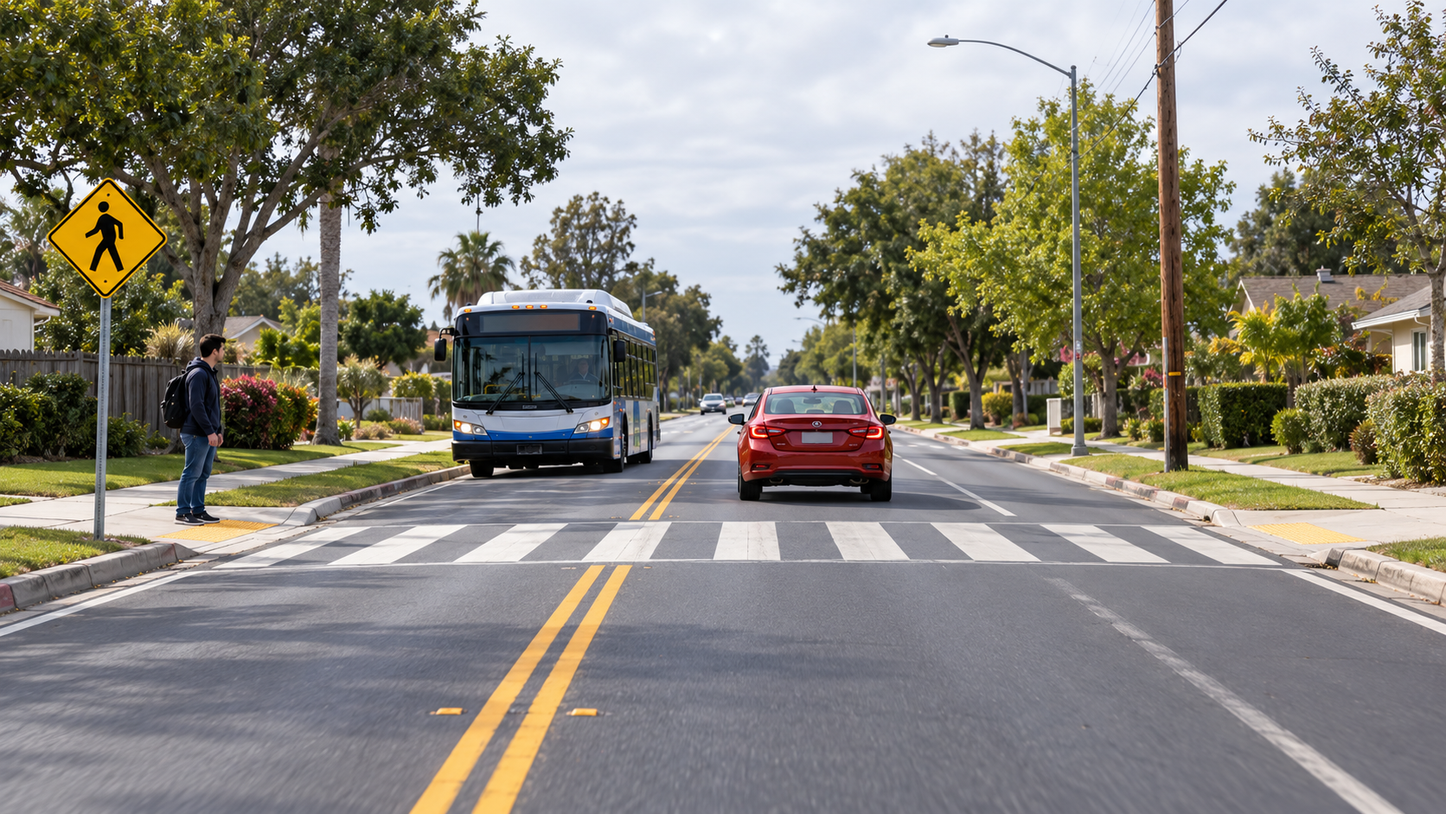bus: (438, 290, 665, 501)
car: (739, 383, 895, 501)
crossing_warning_sign: (47, 206, 153, 298)
person: (160, 333, 228, 522)
zebra_crossing: (0, 510, 1446, 593)
